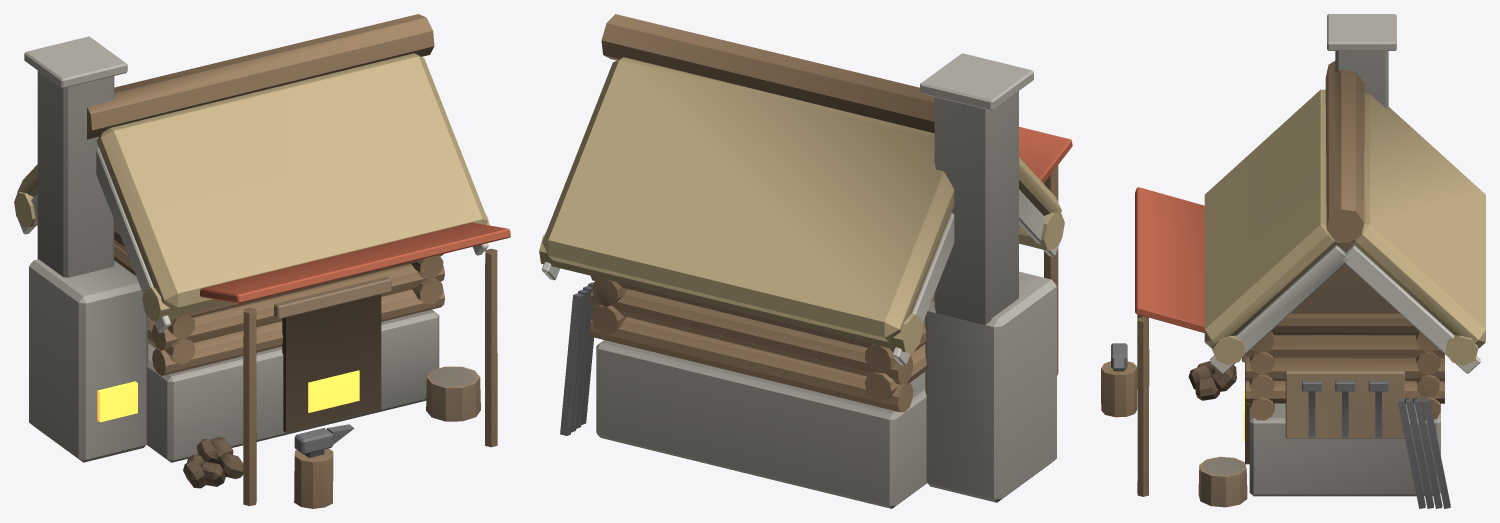
The model's file is bld_kuznica.glb.
3 views of the same model, side by side, from view 1: azimuth 30°, elevation 25°; view 2: azimuth 150°, elevation 25°; view 3: azimuth 270°, elevation 25° (orthographic). The views are drawn at different scales.
Parts seen in each view (by area): view 1: kuznica; view 2: kuznica; view 3: kuznica.
Part boxes in pixels (left/top/right/bottom): kuznica: left=14, top=14, right=510, bottom=508; kuznica: left=539, top=14, right=1072, bottom=508; kuznica: left=1101, top=14, right=1485, bottom=508.
Bounding box in the file's own units: 1.18 × 1.13 × 1.16.
